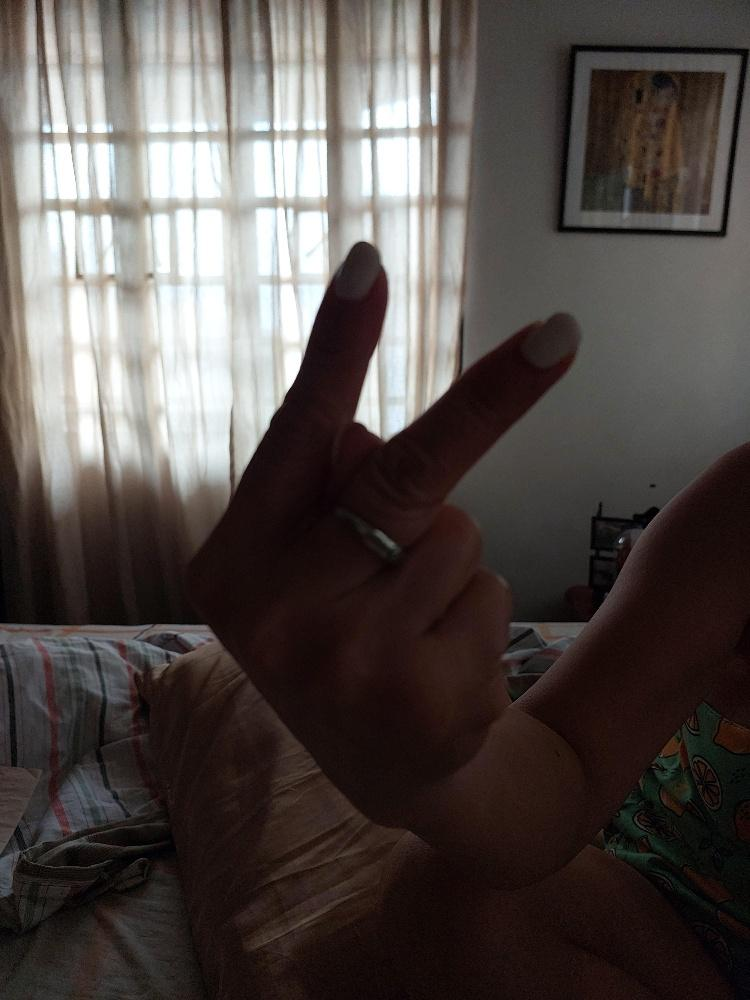k: (184, 231, 586, 794)
